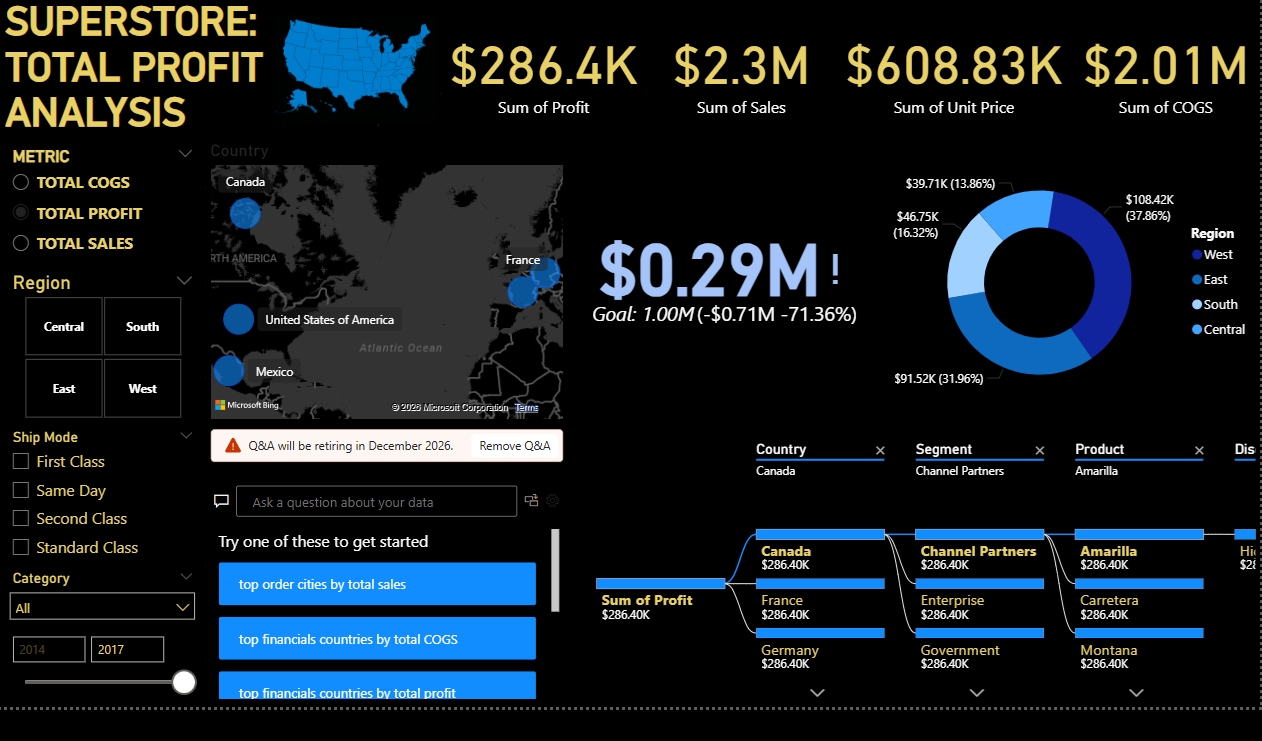

This screenshot's page, from the dashboard's own definition file:
{"tool":"powerbi","page":{"name":"dashboard","canvas":[1280,720],"ordinal":0},"visuals":[{"type":"slicer","fields":{"Values":["Orders.Region"]},"box":[0,272,208,160],"z":0},{"type":"textbox","box":[0,0,288,144],"z":1000},{"type":"card","fields":{"Values":["Sum(Orders.COGS)"]},"box":[1088,0,192,144],"z":2000},{"type":"card","fields":{"Values":["Sum(Orders.Profit)"]},"box":[448,0,208,144],"z":3000},{"type":"slicer","fields":{"Values":["Orders.Order Date.Variation.Date Hierarchy.Year"]},"box":[0,624,208,96],"z":4000},{"type":"kpi","fields":{"Indicator":["Orders.TOTALSALES"],"TrendLine":["financials.Date.Variation.Date Hierarchy.Year"],"Goal":["financials.TARGET"]},"box":[576,144,320,288],"z":5000},{"type":"decompositionTreeVisual","title":"DETAILS","fields":{"Analyze":["Sum(Orders.Profit)"],"ExplainBy":["financials.Country","financials.Segment","financials.Product","financials.Discount Band"]},"box":[576,432,704,288],"z":6000},{"type":"card","fields":{"Values":["Sum(Orders.Sales)"]},"box":[656,0,192,144],"z":7000},{"type":"slicer","fields":{"Values":["METRIC.METRIC"]},"box":[0,144,208,128],"z":8000},{"type":"card","fields":{"Values":["Sum(Orders.Unit Price)"]},"box":[848,0,240,144],"z":9000},{"type":"slicer","fields":{"Values":["Orders.Category"]},"box":[0,576,208,64],"z":10000},{"type":"slicer","fields":{"Values":["Orders.Ship Mode"]},"box":[0,432,208,144],"z":11000},{"type":"donutChart","fields":{"Y":["Orders.TOTALSALES"],"Category":["Orders.Region"]},"box":[896,144,384,288],"z":12000},{"type":"image","box":[272,0,176,144],"z":13000},{"type":"qnaVisual","box":[208,432,368,288],"z":14000},{"type":"map","fields":{"Category":["financials.Country"]},"box":[208,144,368,288],"z":15000}]}

Visuals, with their boxes on the page's 1280x720 design canvas (x1, y1, x2, y2). These are canvas units, not pixel positions in the 1262x741 screenshot, which may show the page scaled, cropped or inside an application window:
slicer - Orders.Region: 0, 272, 208, 432
textbox: 0, 0, 288, 144
card - Sum(Orders.COGS): 1088, 0, 1280, 144
card - Sum(Orders.Profit): 448, 0, 656, 144
slicer - Orders.Order Date.Variation.Date Hierarchy.Year: 0, 624, 208, 720
kpi - Orders.TOTALSALES x financials.Date.Variation.Date Hierarchy.Year: 576, 144, 896, 432
"DETAILS" decompositionTreeVisual: 576, 432, 1280, 720
card - Sum(Orders.Sales): 656, 0, 848, 144
slicer - METRIC.METRIC: 0, 144, 208, 272
card - Sum(Orders.Unit Price): 848, 0, 1088, 144
slicer - Orders.Category: 0, 576, 208, 640
slicer - Orders.Ship Mode: 0, 432, 208, 576
donutChart - Orders.TOTALSALES x Orders.Region: 896, 144, 1280, 432
image: 272, 0, 448, 144
qnaVisual: 208, 432, 576, 720
map - financials.Country: 208, 144, 576, 432
